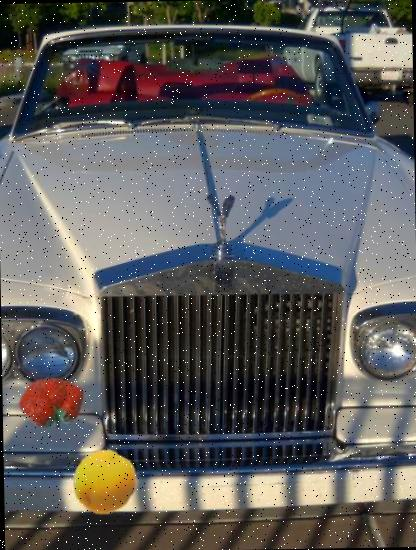Peach: (70, 448, 137, 516)
Strawberry: (18, 369, 86, 437)
